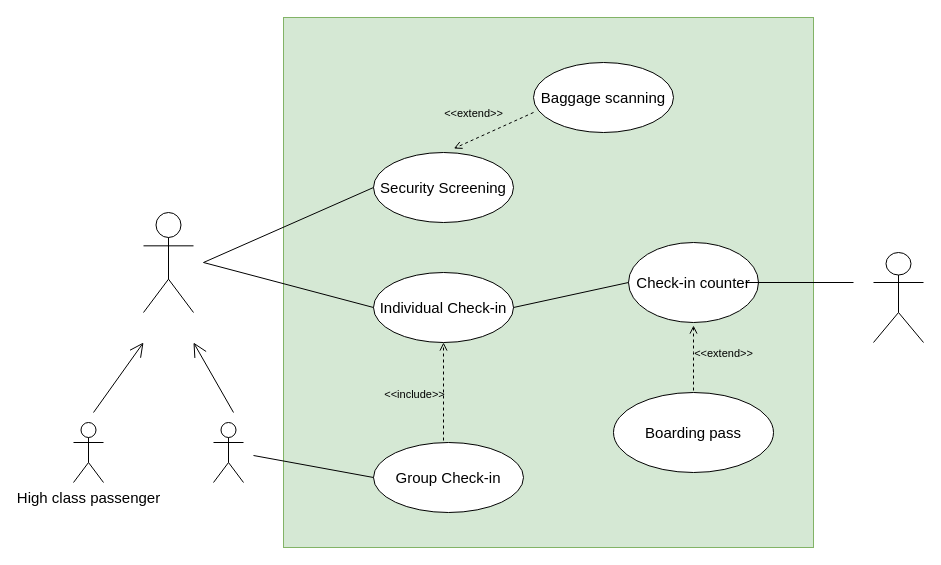
This 941x565 diagram has some shape labels left out. The shapes that lost their labels are listed below. From the top down, each one's box as (x1, y1, x2, y2) in pixels, then its label:
(142, 212, 194, 312): Passenger
(872, 252, 924, 342): Admin
(212, 422, 244, 482): Tour Guide
